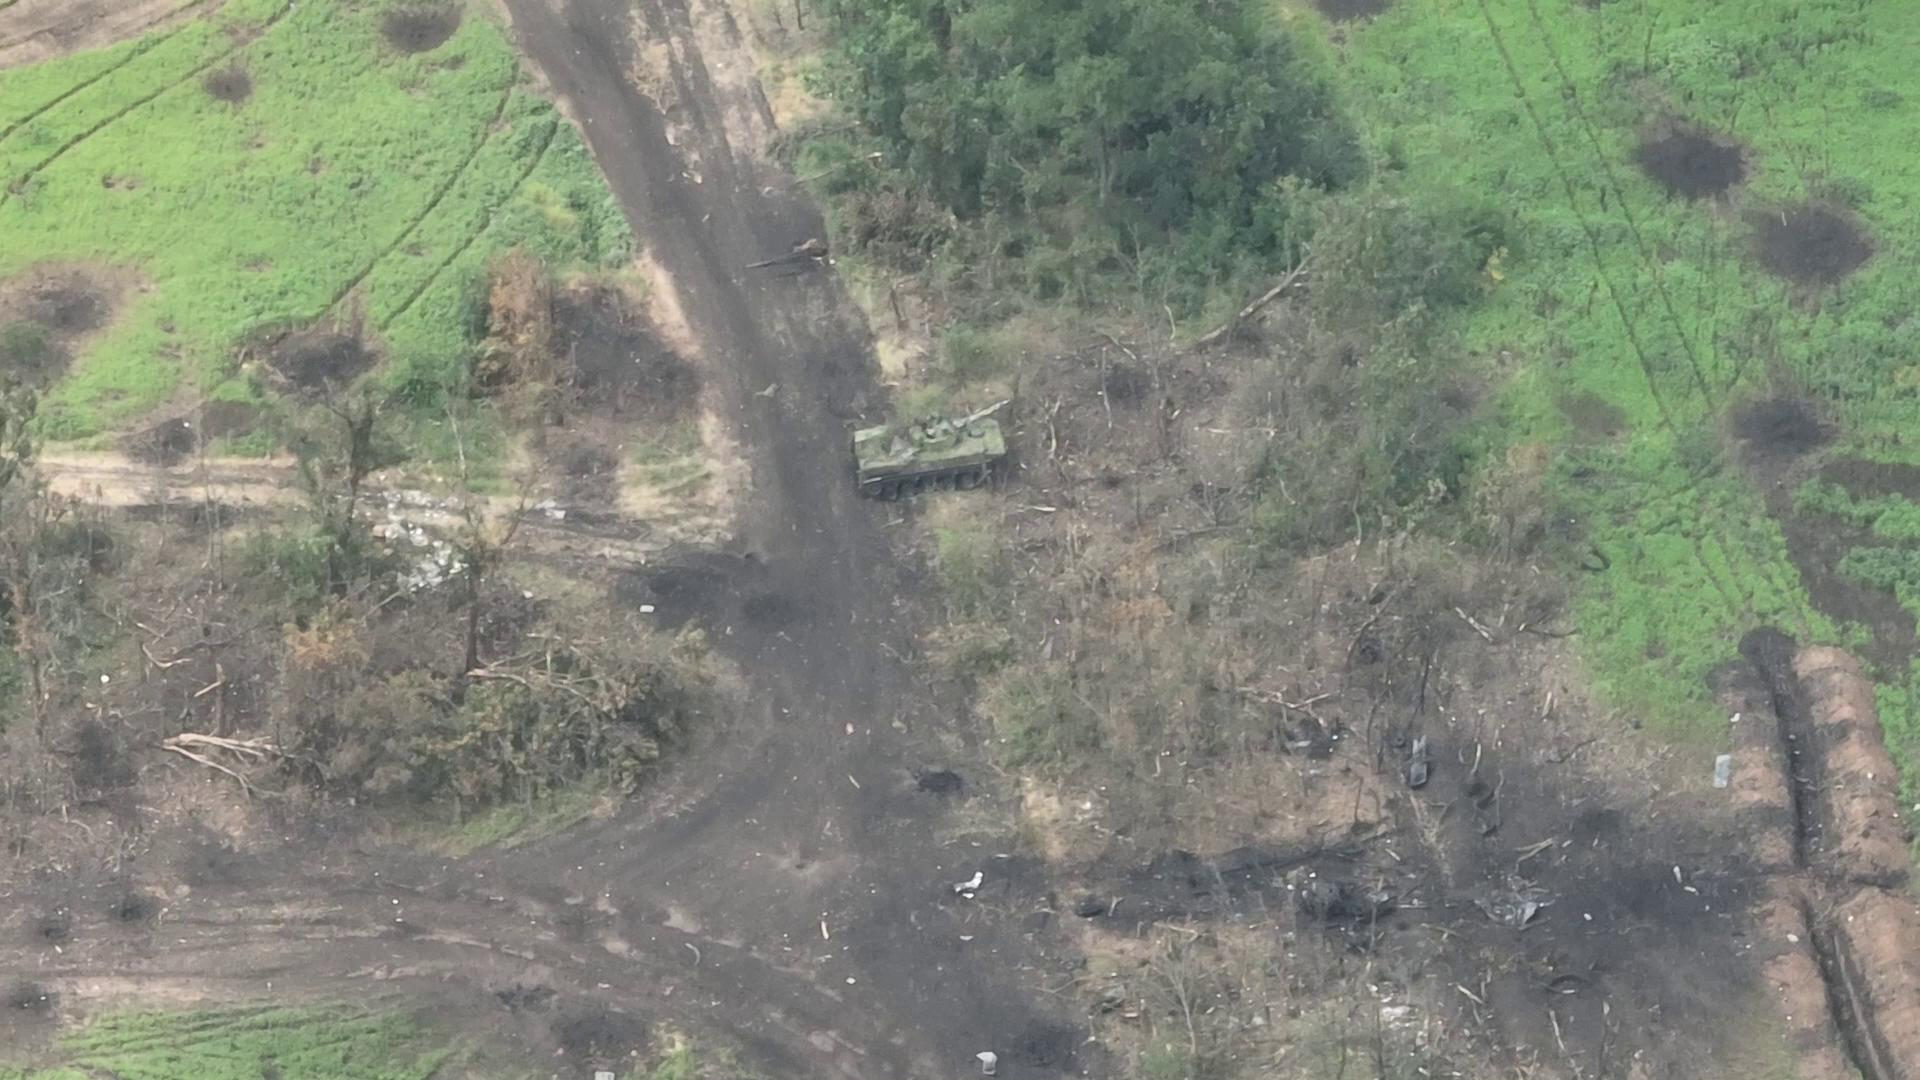tank: (848, 396, 1013, 502)
